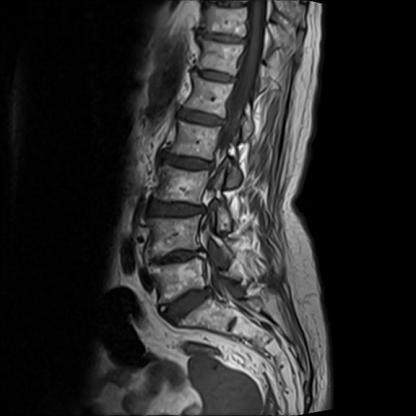Annular Tearrotation: (160, 291, 218, 317), (149, 248, 205, 268)
Disc Bulgerotation: (160, 291, 218, 316), (162, 153, 216, 175), (149, 247, 205, 268), (176, 109, 228, 129)
